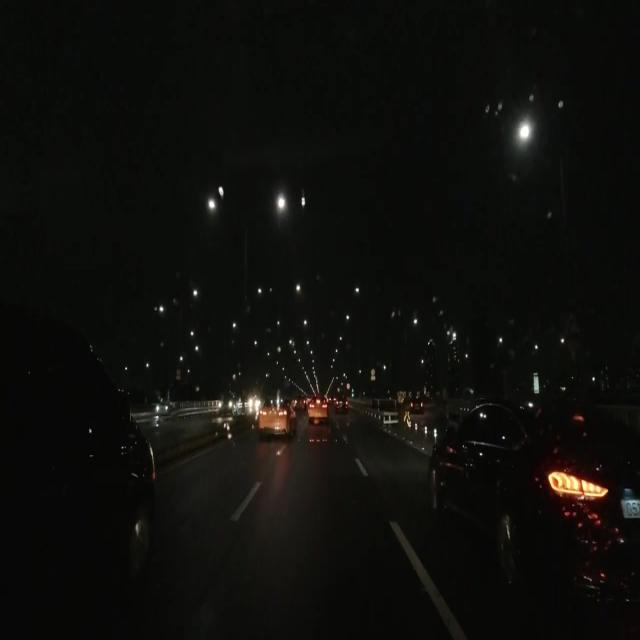Car: (428, 385, 639, 602), (20, 311, 149, 639), (255, 392, 292, 436), (307, 393, 328, 418)
